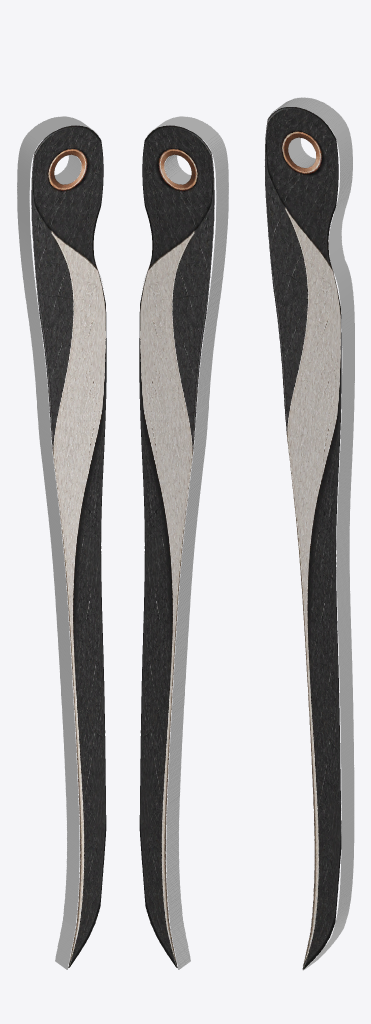
File: LowerLeg.glb
3 renders of one model, left to right at view 1: azimuth 30°, elevation 25°; view 2: azimuth 150°, elevation 25°; view 3: azimuth 330°, elevation 25°, orthographic. The views are drawn at different scales.
Parts seen in each view (by area): view 1: PaperVolume; view 2: PaperVolume; view 3: PaperVolume.
Boxes of the visible parts, x1,y1,x2,y2 form: PaperVolume: (17, 116, 106, 969); PaperVolume: (139, 116, 228, 969); PaperVolume: (264, 97, 354, 970).
Size of the model in its own units: 0.3 by 3.41 by 0.08.
Materials: 3 (2 with a texture image).
